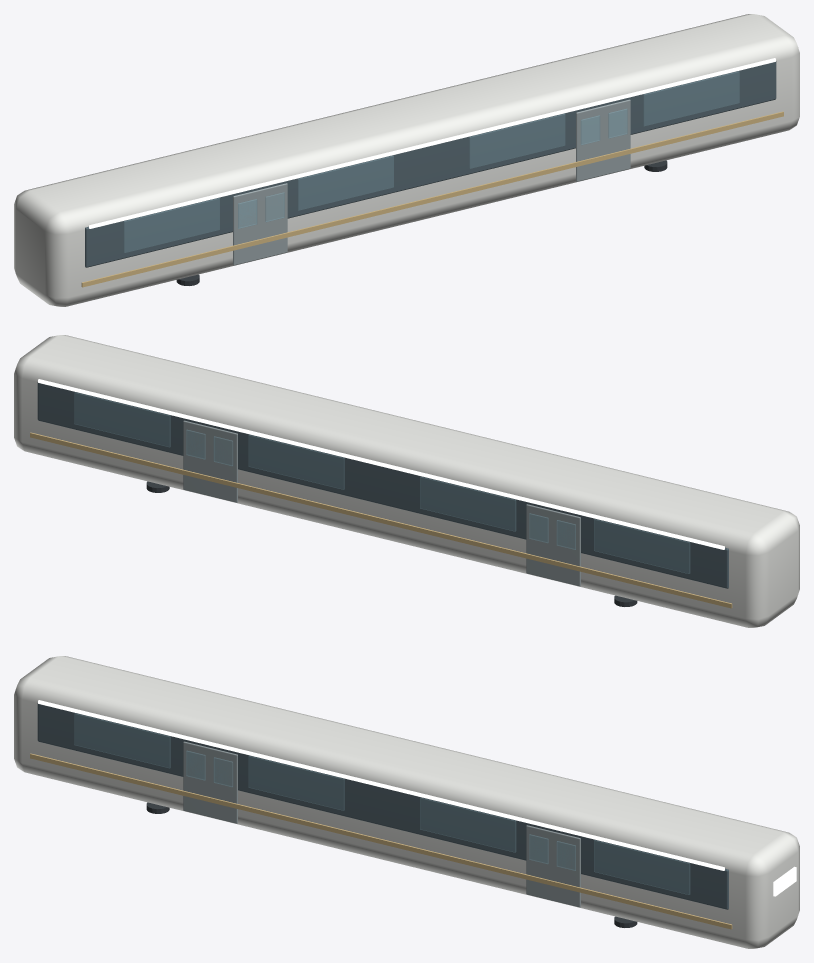
File: train.glb
3 renders of one model, top to bottom at view 1: azimuth 30°, elevation 25°; view 2: azimuth 150°, elevation 25°; view 3: azimuth 330°, elevation 25°, orthographic.
Parts seen in each view (by area): view 1: Aluminium train car shell, Panoramic dark window band, Gold transit livery stripe, Passenger door, Passenger door.001, Continuous destination light ribbon, Glass passenger window.002, Glass passenger window.003, Glass passenger window, Glass passenger window.001, Door vision glass.002, Door vision glass.003; view 2: Aluminium train car shell, Opposite window band, Gold transit livery stripe.001, Passenger door.002, Passenger door.003, Continuous destination light ribbon.001, Glass passenger window.006, Glass passenger window.007, Glass passenger window.004, Glass passenger window.005, Door vision glass.006, Door vision glass.007; view 3: Aluminium train car shell, Panoramic dark window band, Gold transit livery stripe, Passenger door.001, Passenger door, Continuous destination light ribbon, Glass passenger window, Glass passenger window.001, Glass passenger window.003, Glass passenger window.002, Door vision glass.001, Door vision glass.
Part boxes in pixels (bbox=[...]): Aluminium train car shell: bbox=[14, 14, 799, 306]; Panoramic dark window band: bbox=[85, 61, 776, 267]; Gold transit livery stripe: bbox=[81, 111, 783, 287]; Passenger door: bbox=[233, 183, 287, 265]; Passenger door.001: bbox=[576, 99, 630, 181]; Continuous destination light ribbon: bbox=[89, 58, 775, 228]; Glass passenger window.002: bbox=[469, 114, 565, 168]; Glass passenger window.003: bbox=[643, 71, 739, 126]; Glass passenger window: bbox=[124, 198, 219, 252]; Glass passenger window.001: bbox=[298, 156, 393, 210]; Door vision glass.002: bbox=[580, 115, 600, 145]; Door vision glass.003: bbox=[608, 108, 627, 138]; Aluminium train car shell: bbox=[14, 335, 799, 627]; Opposite window band: bbox=[37, 382, 728, 588]; Gold transit livery stripe.001: bbox=[30, 432, 732, 608]; Passenger door.002: bbox=[526, 504, 580, 586]; Passenger door.003: bbox=[183, 420, 237, 502]; Continuous destination light ribbon.001: bbox=[38, 379, 724, 549]; Glass passenger window.006: bbox=[248, 435, 344, 489]; Glass passenger window.007: bbox=[74, 392, 170, 447]; Glass passenger window.004: bbox=[594, 519, 689, 573]; Glass passenger window.005: bbox=[420, 477, 515, 531]; Door vision glass.006: bbox=[213, 436, 233, 466]; Door vision glass.007: bbox=[186, 429, 205, 459]; Aluminium train car shell: bbox=[14, 656, 799, 948]; Panoramic dark window band: bbox=[37, 703, 728, 909]; Gold transit livery stripe: bbox=[30, 753, 732, 929]; Passenger door.001: bbox=[526, 825, 580, 907]; Passenger door: bbox=[183, 741, 237, 823]; Continuous destination light ribbon: bbox=[38, 700, 724, 870]; Glass passenger window: bbox=[74, 713, 170, 768]; Glass passenger window.001: bbox=[248, 756, 344, 810]; Glass passenger window.003: bbox=[594, 840, 689, 894]; Glass passenger window.002: bbox=[420, 798, 515, 852]; Door vision glass.001: bbox=[213, 757, 233, 787]; Door vision glass: bbox=[186, 750, 205, 780].
Bounding box in the file's own units: 29.09 × 3.69 × 3.5.
